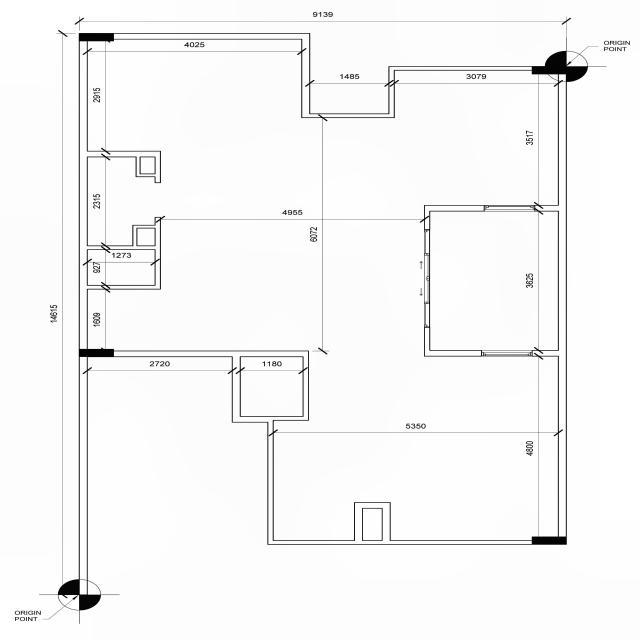Column: (78, 32, 114, 42), (78, 349, 115, 358), (531, 536, 568, 544), (532, 66, 568, 74)
Sliding Door: (422, 228, 433, 328)
Window: (483, 205, 536, 212), (481, 350, 534, 357)
